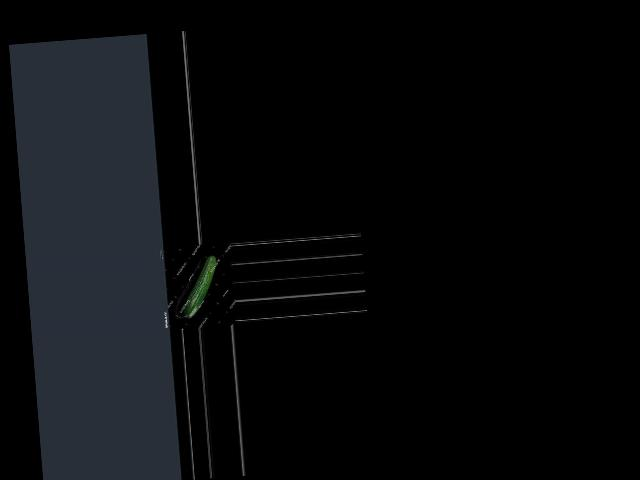cucumber: (177, 254, 220, 318)
